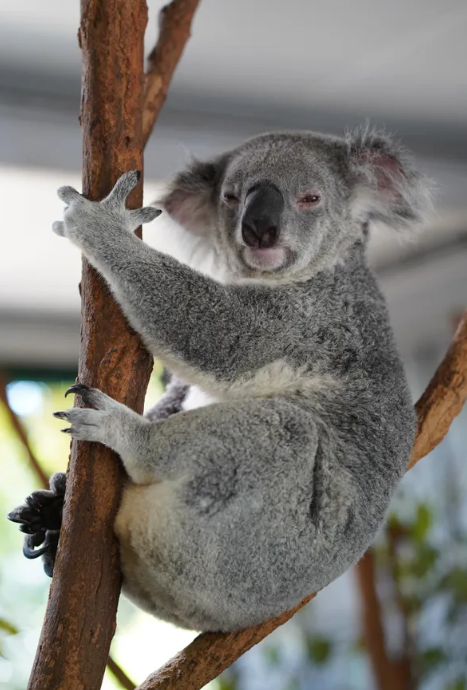koala: (56, 111, 415, 628)
